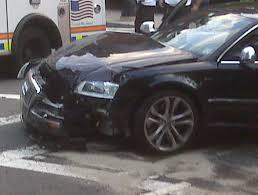bonnet-dent: (51, 21, 182, 73)
front-bumper-dent: (17, 70, 76, 126)
